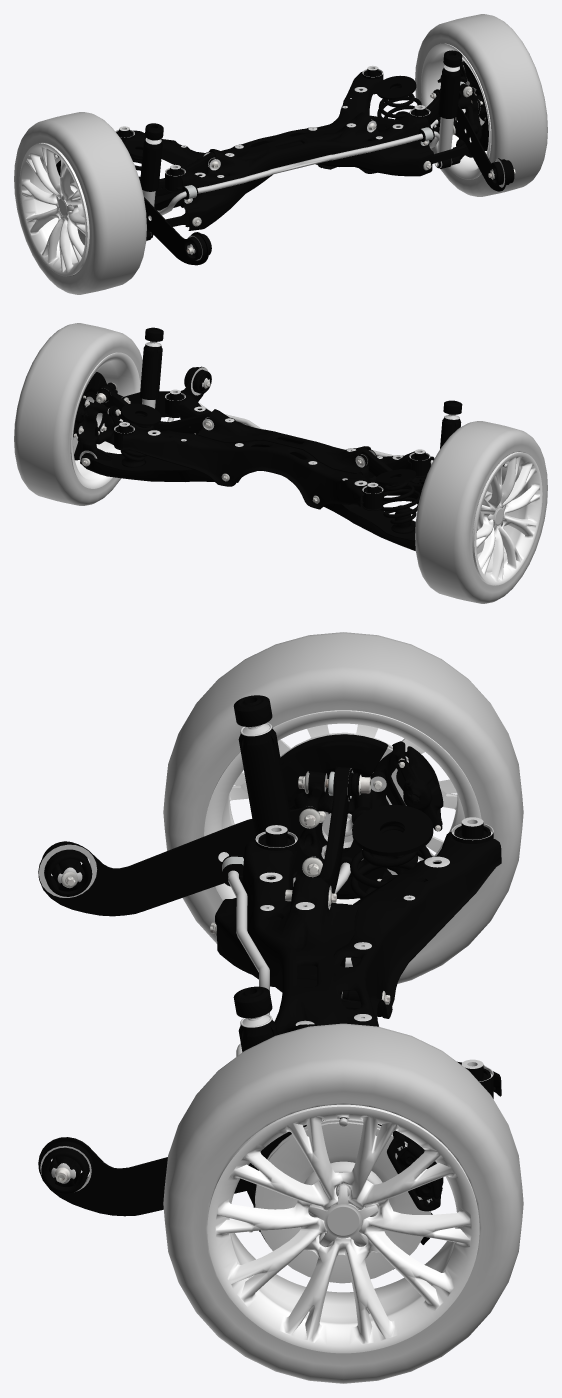
Rendered from RearSuspension.fbx.
3 views of the same model, one above another, from view 1: azimuth 30°, elevation 25°; view 2: azimuth 150°, elevation 25°; view 3: azimuth 270°, elevation 25° (orthographic). The views are drawn at different scales.
Visible parts, largest first — view 1: Padramnik.001, Pokrishka, Pokrishka.001, Disk.003, Disk, Amortisator, Stabilisator.001, Amortisator.001, ProdolnyiRujag.004, ProdolnyiRujag.001, Stupica, Prujina.002 (+7 smaller); view 2: Padramnik.001, Pokrishka, Pokrishka.001, Disk.003, Disk, RujagDown.001, Stupica, RujagDown.002, Amortisator, Prujina.004, RujagUp.001, Prujina.002 (+6 smaller); view 3: Pokrishka.001, Disk, Pokrishka, Padramnik.001, ProdolnyiRujag.004, Tormoznoi disc, Disk.003, ProdolnyiRujag.001, Amortisator.001, zashita.001, Prujina.005, Stupica.001 (+9 smaller).
Part boxes in pixels (<box>): Padramnik.001: <box>115,69,433,230</box>; Pokrishka: <box>14,112,146,294</box>; Pokrishka.001: <box>415,14,547,196</box>; Disk.003: <box>19,143,89,276</box>; Disk: <box>421,43,491,179</box>; Amortisator: <box>434,50,462,168</box>; Stabilisator.001: <box>157,119,439,215</box>; Amortisator.001: <box>140,123,163,240</box>; ProdolnyiRujag.004: <box>144,197,209,265</box>; ProdolnyiRujag.001: <box>454,104,510,191</box>; Stupica: <box>433,76,481,165</box>; Prujina.002: <box>376,75,416,99</box>; Padramnik.001: <box>114,393,430,509</box>; Pokrishka: <box>415,421,547,603</box>; Pokrishka.001: <box>14,323,142,505</box>; Disk.003: <box>472,452,542,585</box>; Disk: <box>70,352,140,488</box>; RujagDown.001: <box>80,448,214,481</box>; Stupica: <box>76,382,123,460</box>; RujagDown.002: <box>324,504,415,550</box>; Amortisator: <box>140,327,163,408</box>; Prujina.004: <box>380,481,420,524</box>; RujagUp.001: <box>99,385,210,433</box>; Prujina.002: <box>121,403,161,426</box>; Pokrishka.001: <box>163,1023,523,1383</box>; Disk: <box>207,1104,479,1353</box>; Pokrishka: <box>163,632,523,983</box>; Padramnik.001: <box>215,823,501,1098</box>; ProdolnyiRujag.004: <box>38,806,317,916</box>; Tormoznoi disc: <box>255,1119,431,1283</box>; Disk.003: <box>204,710,481,963</box>; ProdolnyiRujag.001: <box>38,1131,289,1216</box>; Amortisator.001: <box>233,695,295,886</box>; zashita.001: <box>280,734,391,899</box>; Prujina.005: <box>352,805,433,856</box>; Stupica.001: <box>289,771,417,879</box>.
Bounding box in the file's own units: 295 × 101 × 136.
